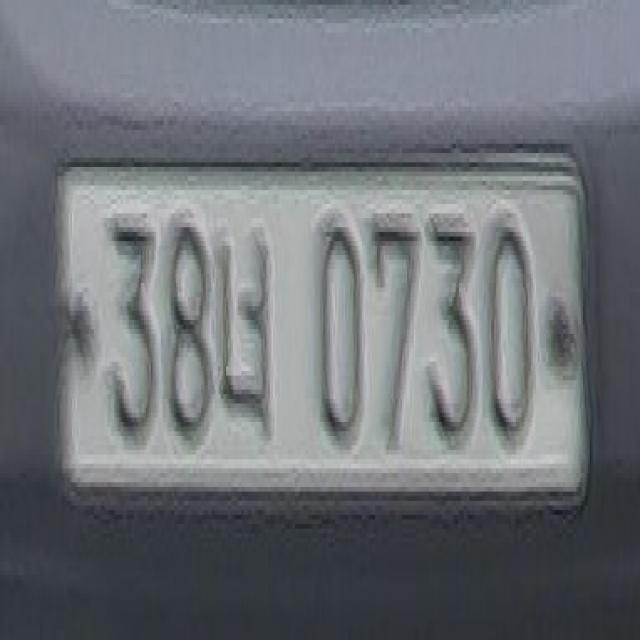0: (487, 209, 538, 450), (315, 209, 365, 450)
3: (427, 204, 481, 455), (106, 204, 159, 450)
7: (368, 209, 421, 450)
8: (164, 209, 215, 445)
license_plate: (54, 158, 593, 501)
neo: (220, 222, 276, 440)
